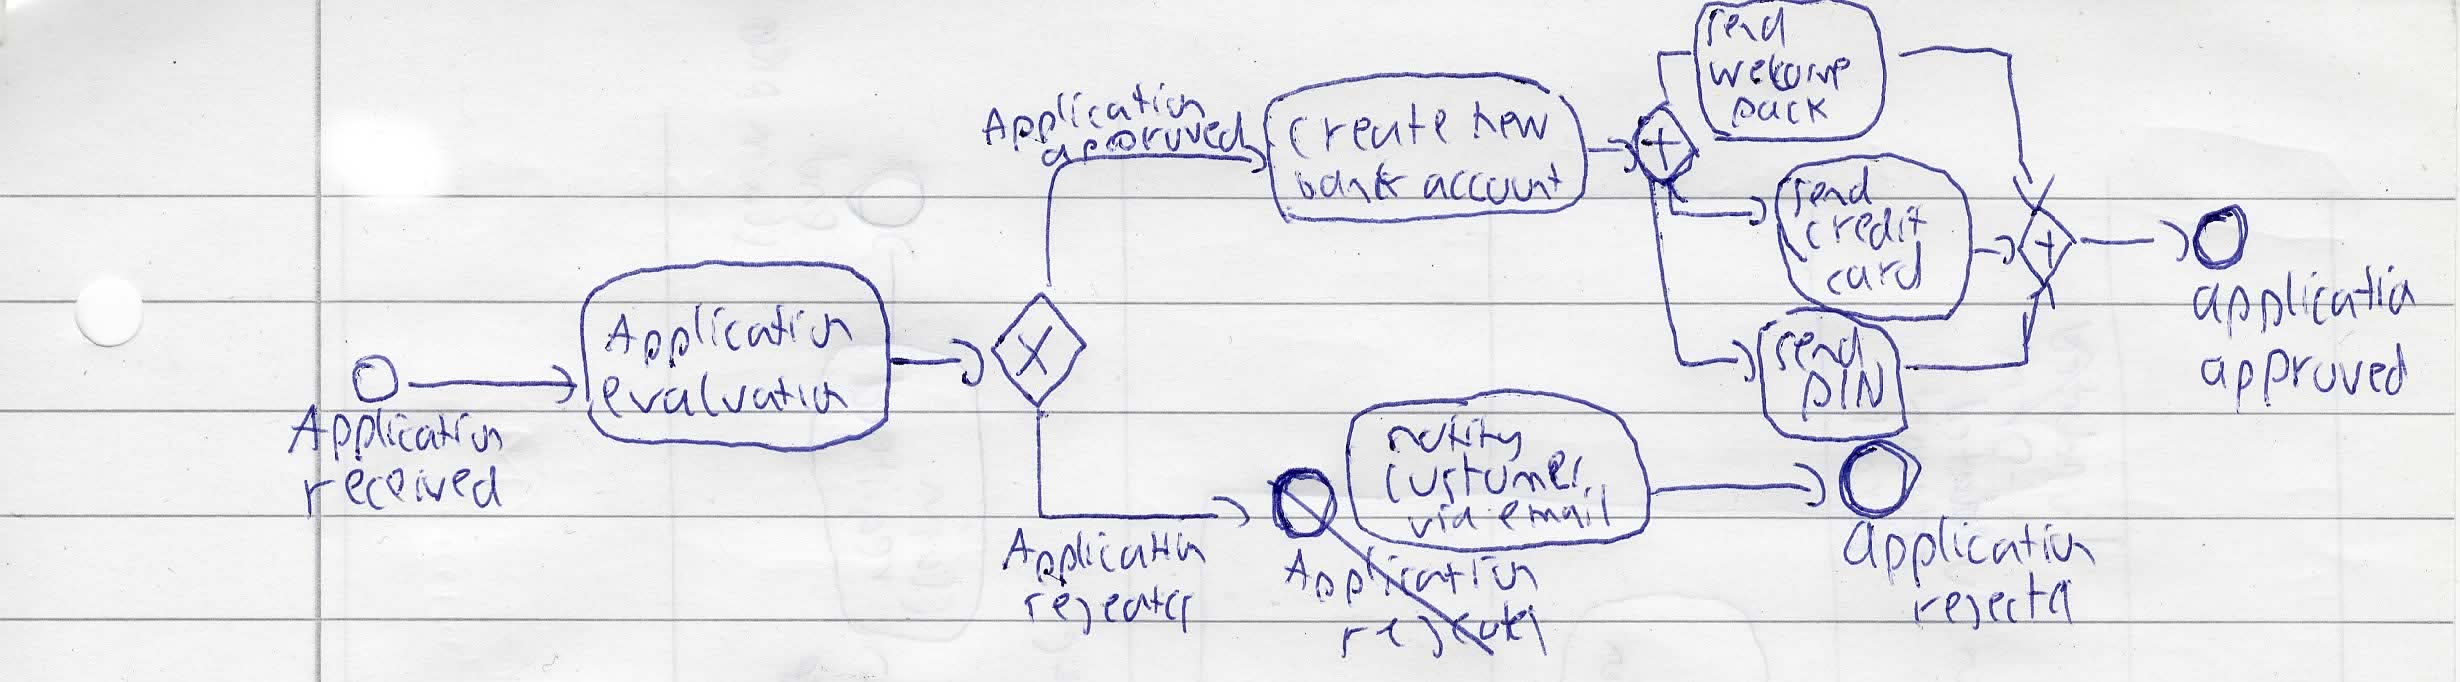Application: (602, 299, 857, 368), (1272, 542, 1537, 600), (973, 85, 1202, 146), (279, 404, 507, 459), (1003, 524, 1211, 582)
PIN: (1803, 364, 1887, 420)
account: (1425, 161, 1567, 207)
application: (2192, 260, 2418, 336), (1839, 517, 2094, 577)
approved: (2198, 343, 2408, 411), (1035, 122, 1261, 176)
bank: (1288, 163, 1414, 205)
card: (1818, 246, 1928, 299)
create: (1288, 102, 1462, 158)
credit: (1803, 204, 1927, 249)
customer: (1379, 453, 1589, 506)
email: (1497, 491, 1618, 536)
evaluation: (596, 368, 846, 417)
new: (1468, 91, 1548, 149)
notity: (1385, 417, 1530, 463)
pack: (1730, 96, 1834, 133)
received: (301, 463, 502, 516)
rejected: (1324, 604, 1552, 665), (1908, 575, 2079, 633), (1021, 582, 1200, 635)
send: (1771, 321, 1869, 375), (1702, 2, 1795, 53), (1782, 168, 1880, 215)
via: (1406, 500, 1494, 542)
welcome: (1709, 52, 1850, 99)
